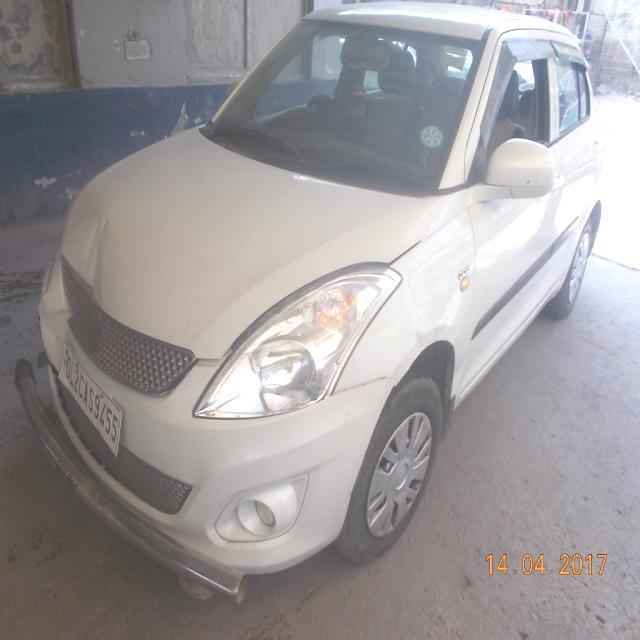minor: (40, 182, 118, 362)
